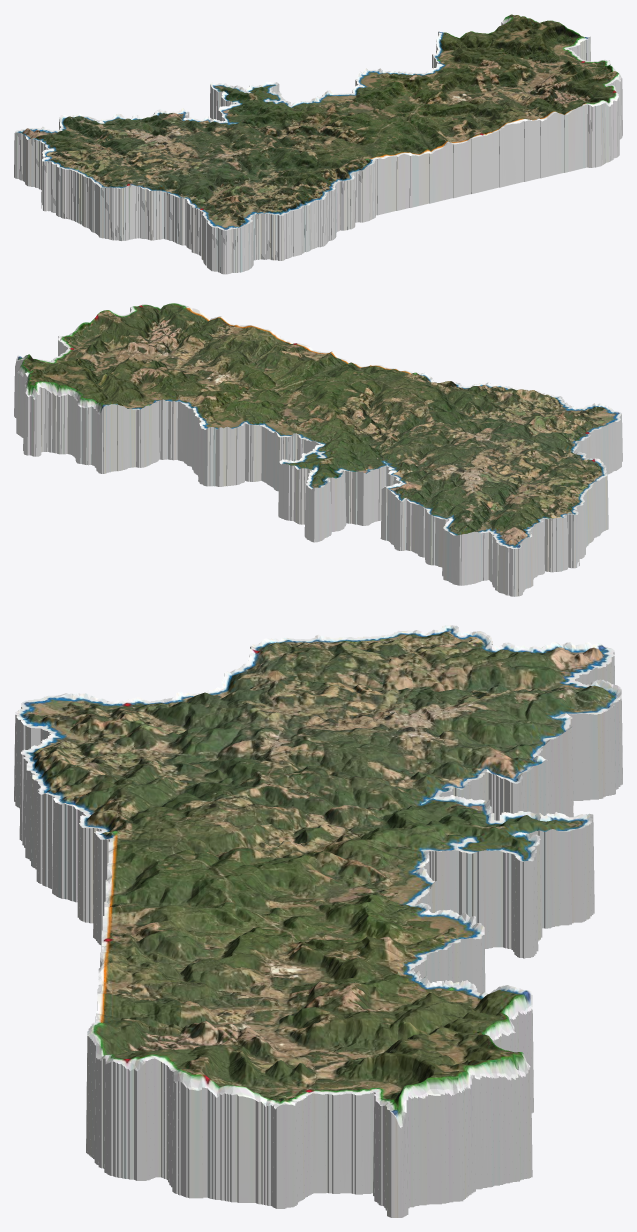
The picture shows the model from 3 angles, top to bottom: view 1: azimuth 30°, elevation 25°; view 2: azimuth 150°, elevation 25°; view 3: azimuth 270°, elevation 25°; orthographic projection. The views are drawn at different scales.
Bounding box in the file's own units: 1 × 0.1144 × 0.5153.
1 material, 1 textured.
